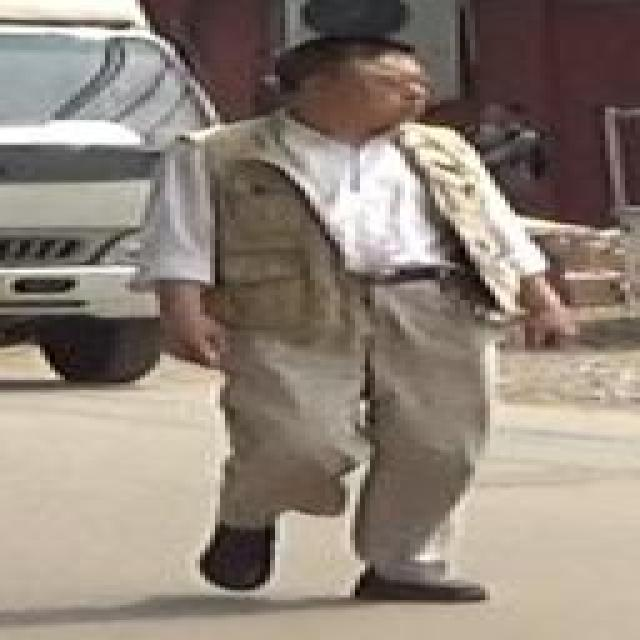adult: (136, 27, 576, 608)
